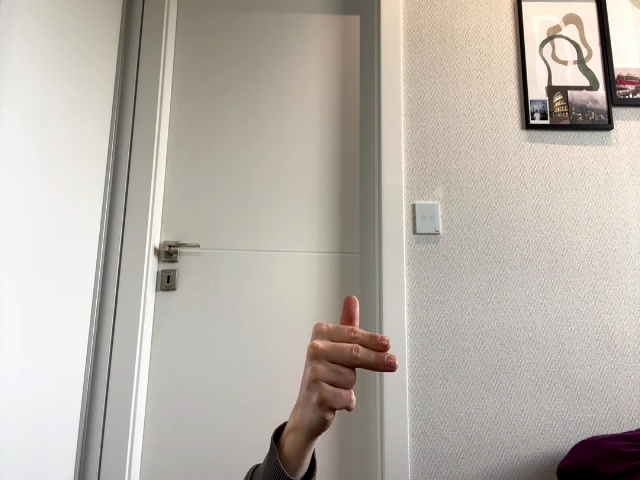N: (302, 296, 397, 416)
